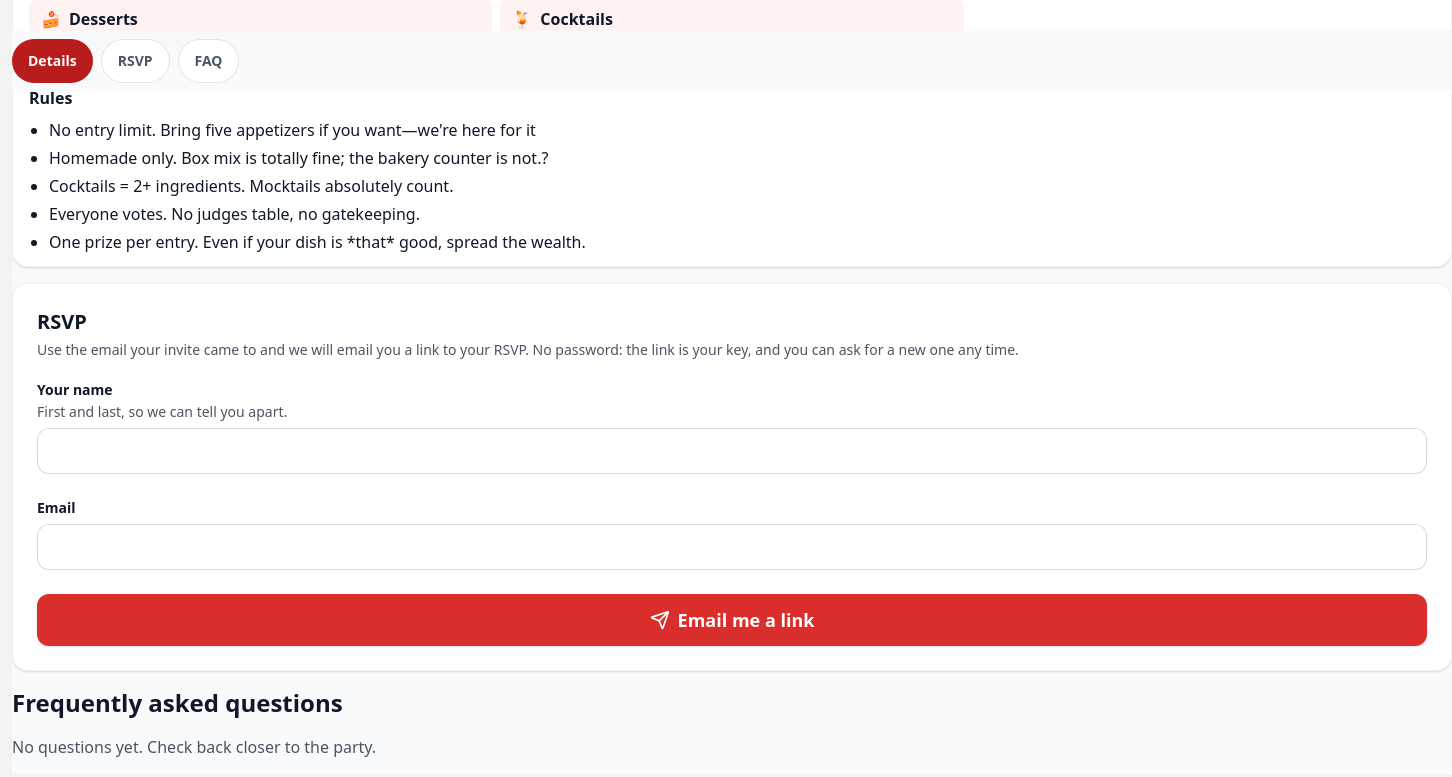
Event page RSVP › tells someone not on the list, and lets them ask the host to add them
(page scrolled)
Type "Sam Stranger" into the field labelled "Your name" at (732, 451), box [37,428,1427,474]
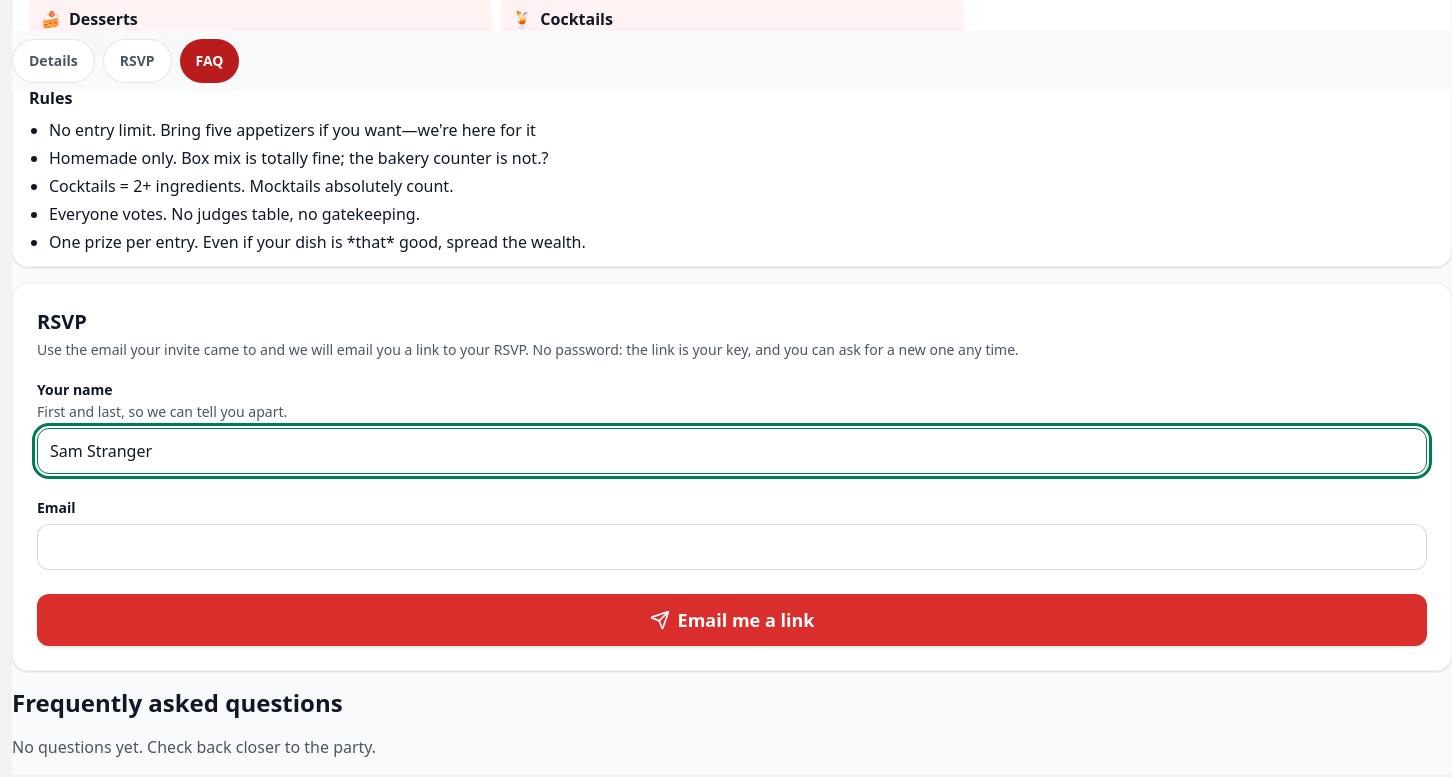
Type "sam@example.com" into the field labelled "Email" at (732, 547), box [37,524,1427,570]
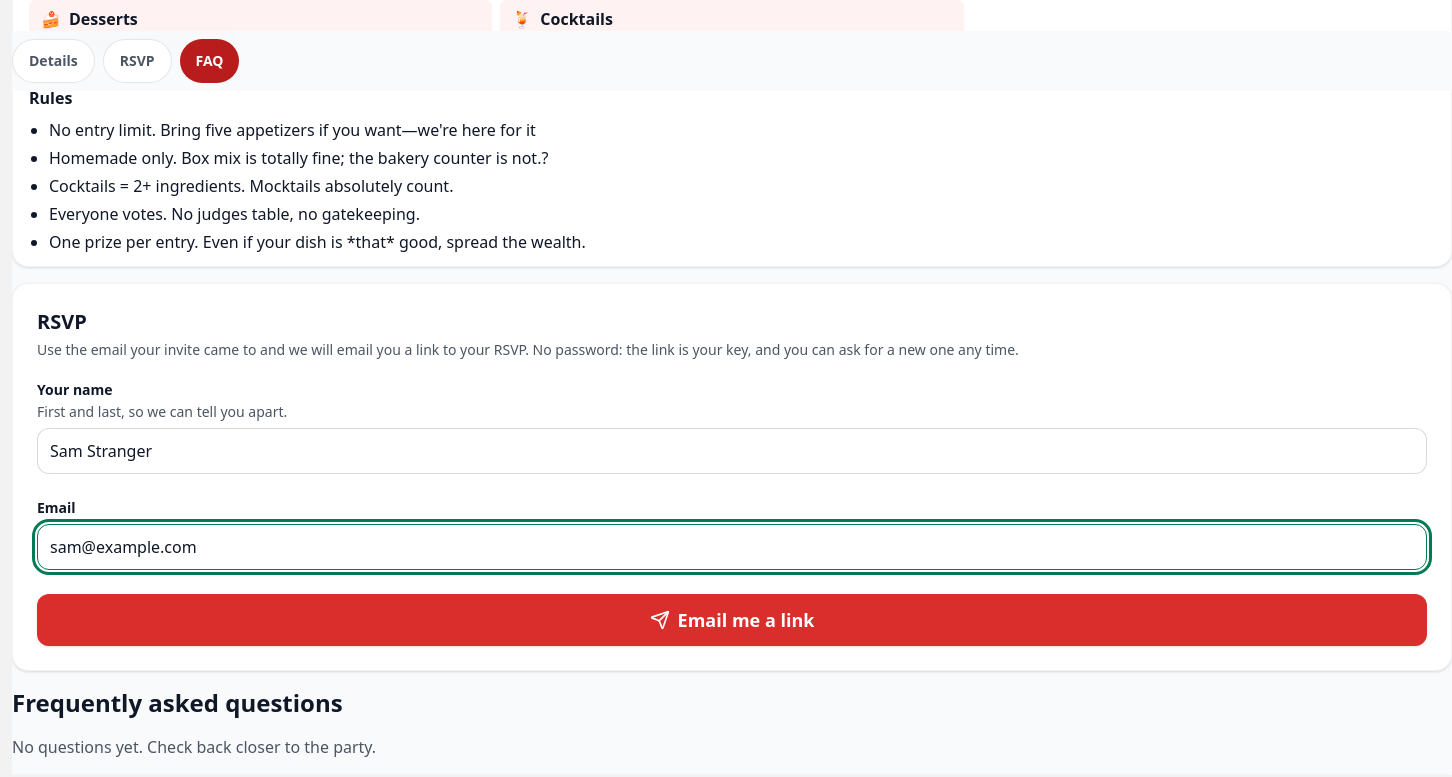
Click the button "Email me a link" at (732, 620), box [37,594,1427,646]
(page scrolled)
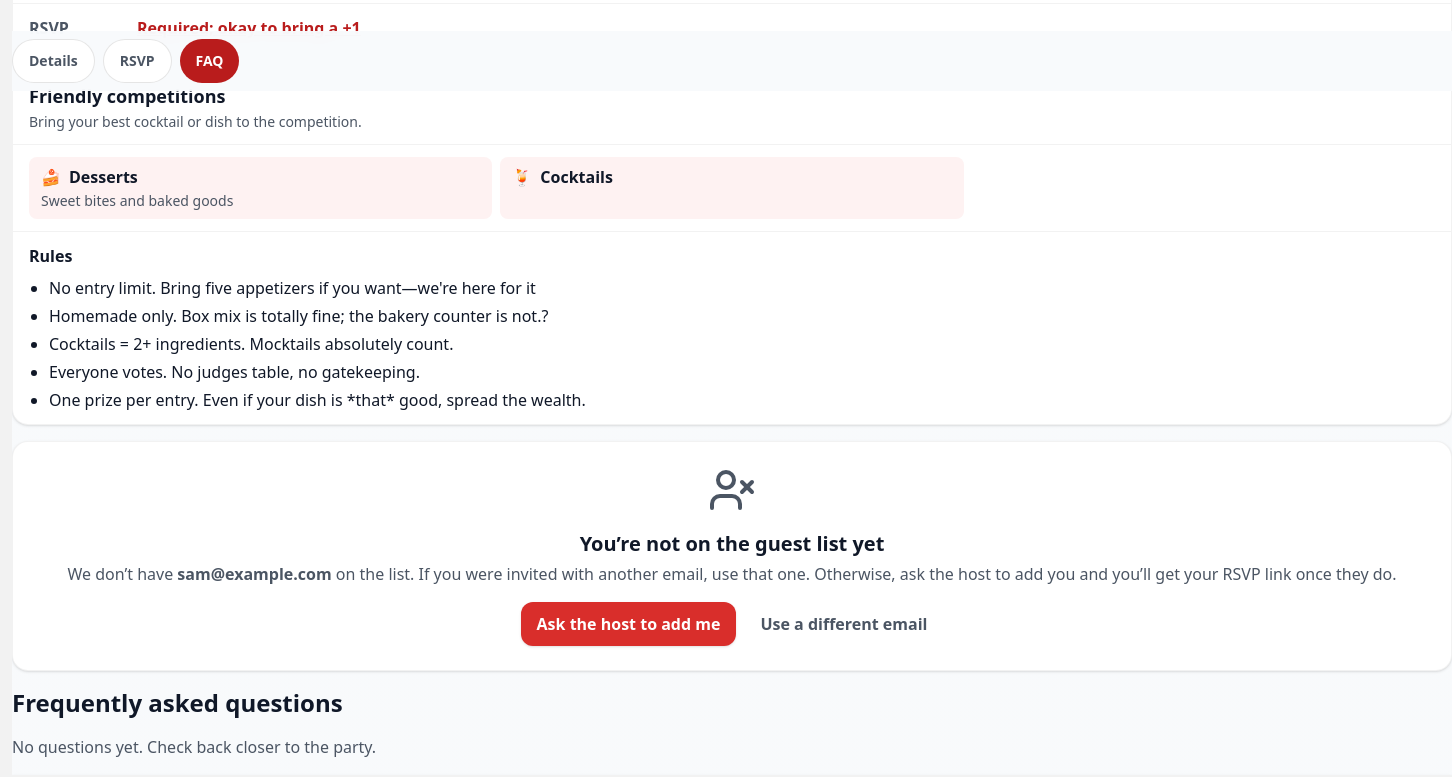
Check: the heading "You’re not on the guest list yet" is shown, box [580,530,884,557]
Click the button "Ask the host to add me" at (629, 624), box [521,602,736,646]
(page scrolled)
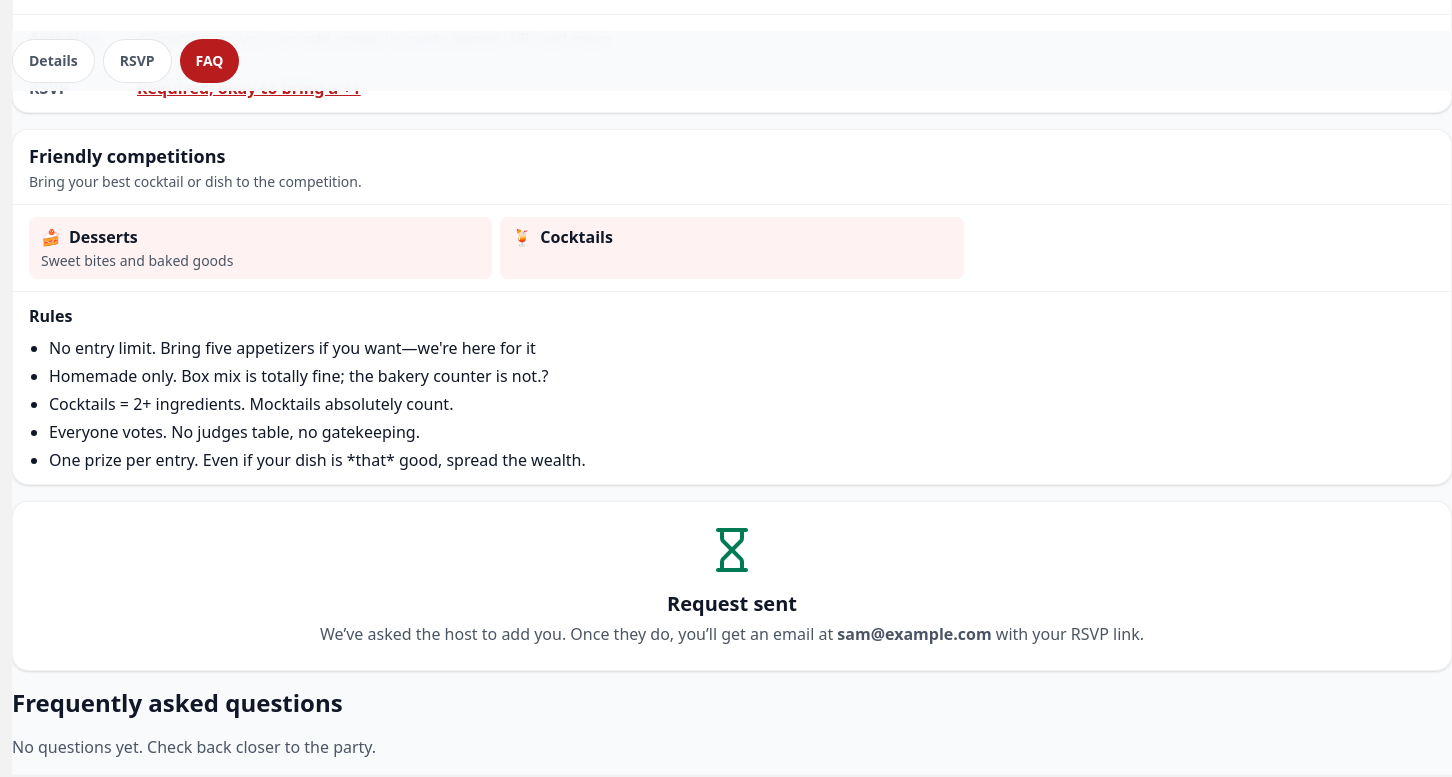
Check: the heading "Request sent" is shown, box [667,590,797,617]
